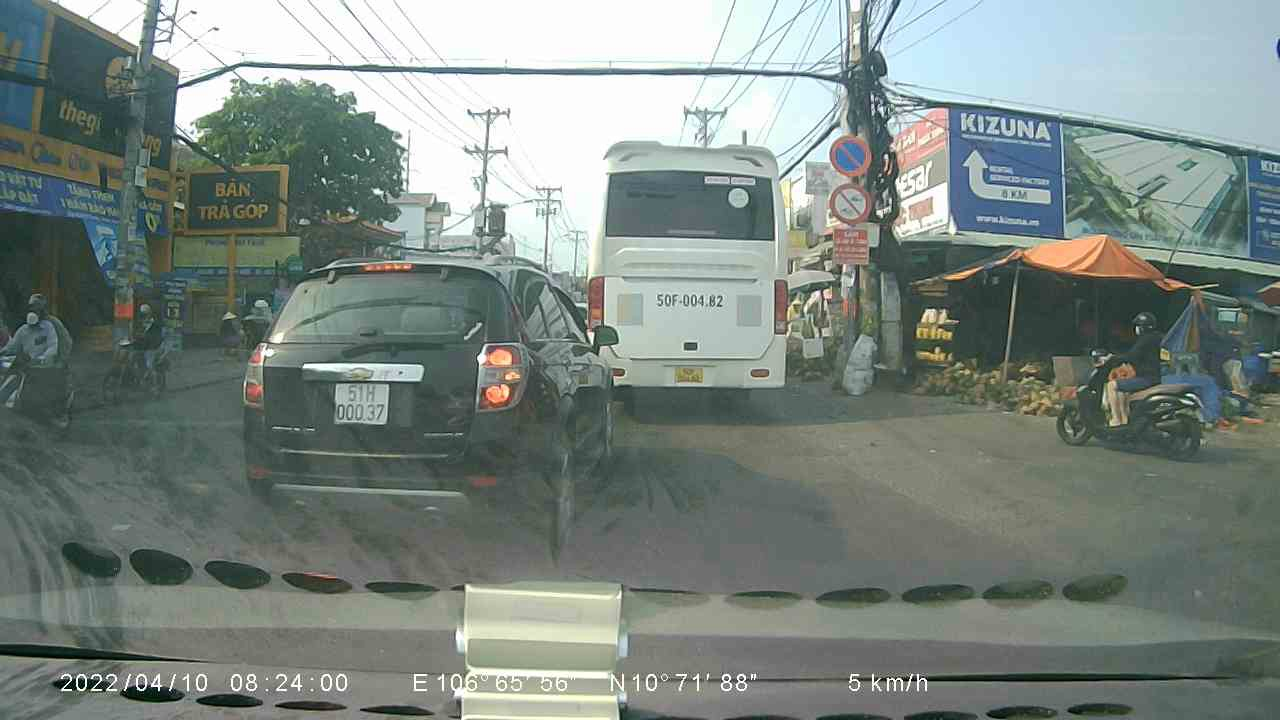Bien khac: (827, 181, 872, 223)
Cam do xe: (826, 129, 872, 176)
